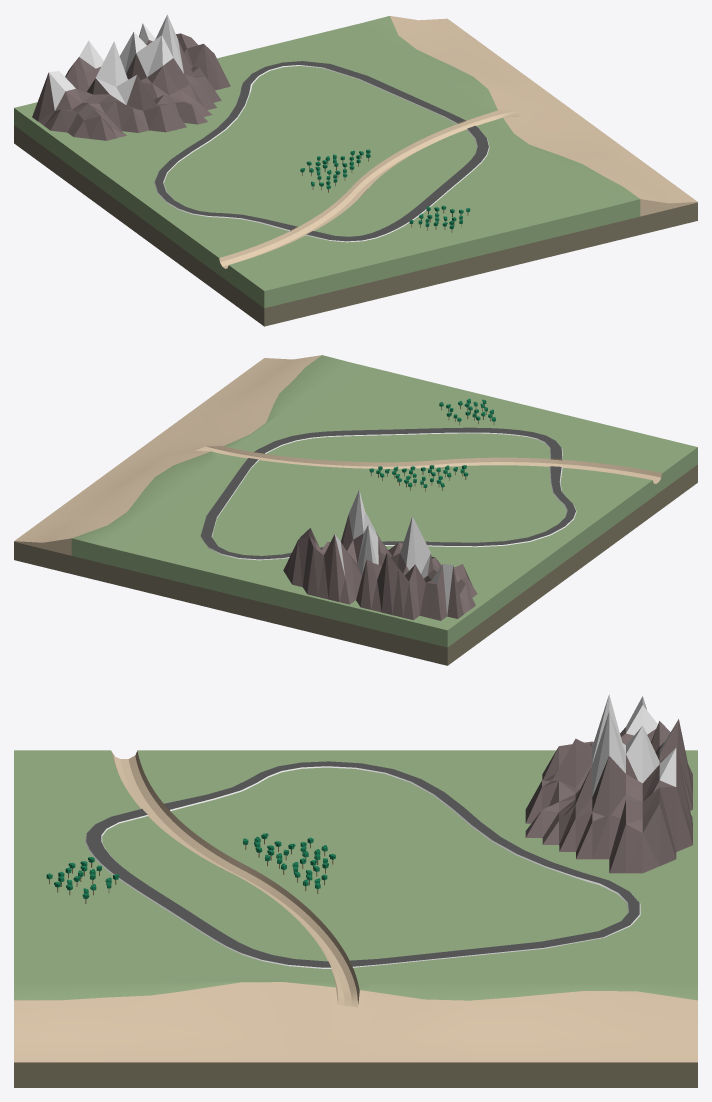
The model's file is Map_GoodRoad_V1.fbx.
The picture shows the model from 3 angles, top to bottom: view 1: azimuth 30°, elevation 25°; view 2: azimuth 150°, elevation 25°; view 3: azimuth 270°, elevation 25°; orthographic projection. The views are drawn at different scales.
Visible parts, largest first — view 1: Terrain, GoodRoad_2, GoodRoad_1; view 2: Terrain, GoodRoad_2, GoodRoad_1; view 3: Terrain, GoodRoad_2, GoodRoad_1.
Part boxes in pixels (left/top/right/bottom): Terrain: left=14, top=14, right=697, bottom=326; GoodRoad_2: left=154, top=61, right=466, bottom=231; GoodRoad_1: left=306, top=125, right=489, bottom=242; Terrain: left=14, top=355, right=697, bottom=665; GoodRoad_2: left=200, top=458, right=576, bottom=560; GoodRoad_1: left=254, top=427, right=562, bottom=460; Terrain: left=14, top=694, right=697, bottom=1087; GoodRoad_2: left=163, top=761, right=640, bottom=967; GoodRoad_1: left=85, top=809, right=331, bottom=968.
Size of the model in its own units: 23.74 by 6.45 by 23.74.
